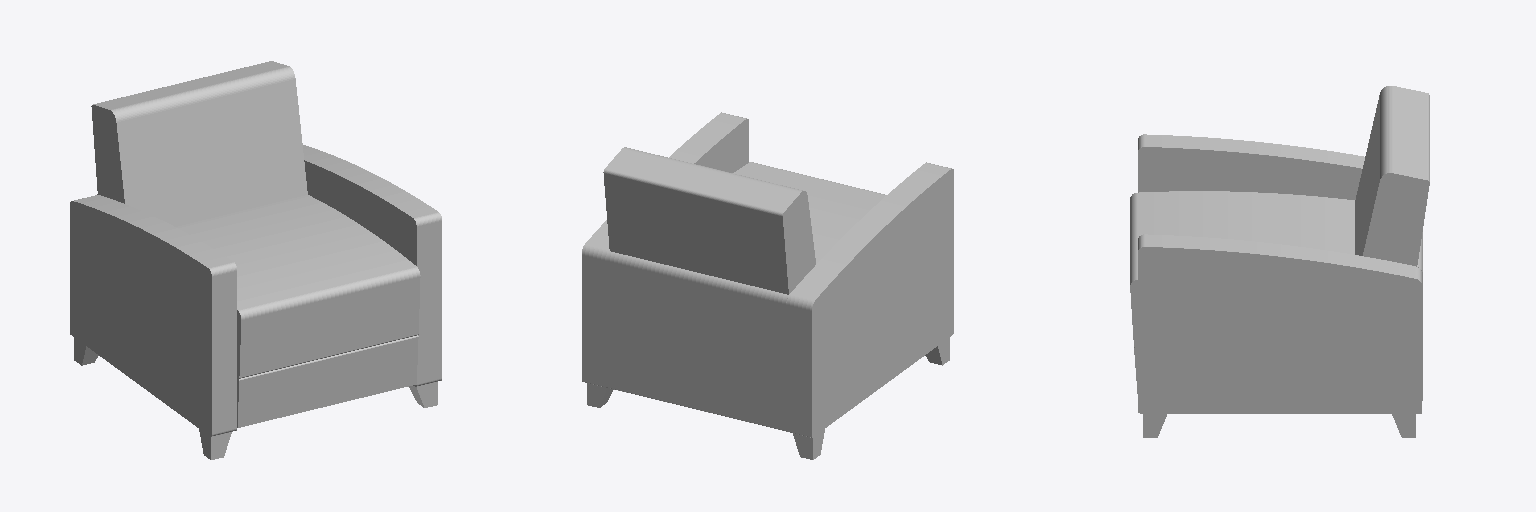
The model's file is model_ori.obj.
The picture shows the model from 3 angles: view 1: azimuth 30°, elevation 25°; view 2: azimuth 150°, elevation 25°; view 3: azimuth 270°, elevation 25°; orthographic projection.
Parts seen in each view (by area): view 1: Mesh2_Group3_Group1_Model, Mesh9_Group10_Group1_Model, Mesh5_Group6_Group1_Model, Mesh4_Group5_Group1_Model, Mesh8_Group9_Group1_Model; view 2: Mesh5_Group6_Group1_Model, Mesh9_Group10_Group1_Model, Mesh4_Group5_Group1_Model, Mesh2_Group3_Group1_Model, Mesh8_Group9_Group1_Model; view 3: Mesh4_Group5_Group1_Model, Mesh2_Group3_Group1_Model, Mesh9_Group10_Group1_Model, Mesh5_Group6_Group1_Model, Mesh8_Group9_Group1_Model.
Part boxes in pixels (bbox=[...]): Mesh2_Group3_Group1_Model: bbox=[176, 195, 420, 427]; Mesh9_Group10_Group1_Model: bbox=[70, 195, 236, 436]; Mesh5_Group6_Group1_Model: bbox=[91, 61, 307, 226]; Mesh4_Group5_Group1_Model: bbox=[303, 145, 441, 386]; Mesh8_Group9_Group1_Model: bbox=[74, 338, 437, 459]; Mesh5_Group6_Group1_Model: bbox=[603, 147, 815, 430]; Mesh9_Group10_Group1_Model: bbox=[786, 162, 953, 437]; Mesh4_Group5_Group1_Model: bbox=[582, 112, 748, 387]; Mesh2_Group3_Group1_Model: bbox=[733, 162, 886, 263]; Mesh8_Group9_Group1_Model: bbox=[587, 338, 949, 459]; Mesh4_Group5_Group1_Model: bbox=[1138, 234, 1421, 413]; Mesh2_Group3_Group1_Model: bbox=[1130, 191, 1354, 393]; Mesh9_Group10_Group1_Model: bbox=[1138, 134, 1364, 199]; Mesh5_Group6_Group1_Model: bbox=[1355, 86, 1429, 400]; Mesh8_Group9_Group1_Model: bbox=[1143, 414, 1415, 437].
Size of the model in its own units: 0.4638 by 0.4874 by 0.5224.